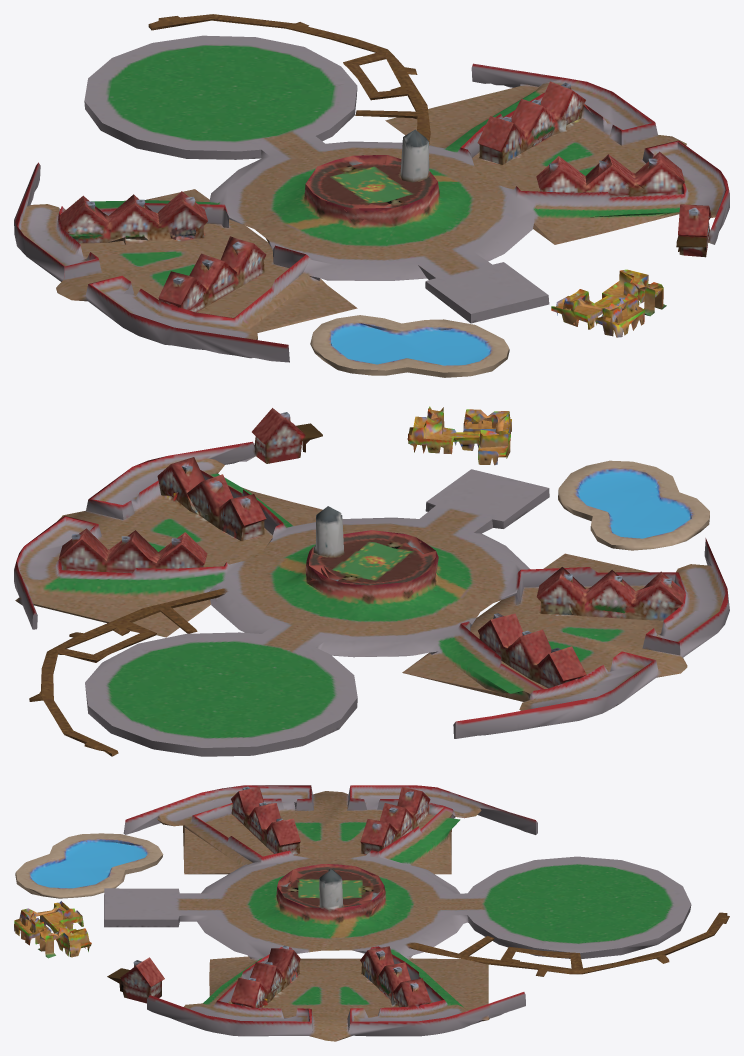
Rendered from clod_town_t04_clod_far001.gltf.
The picture shows the model from 3 angles, top to bottom: view 1: azimuth 30°, elevation 25°; view 2: azimuth 150°, elevation 25°; view 3: azimuth 270°, elevation 25°; orthographic projection. The views are drawn at different scales.
Visible parts, largest first — view 1: clod_town_t04_clod_far001_000_meshShape:remesh_mat; view 2: clod_town_t04_clod_far001_000_meshShape:remesh_mat; view 3: clod_town_t04_clod_far001_000_meshShape:remesh_mat.
Part boxes in pixels (bbox=[...]): clod_town_t04_clod_far001_000_meshShape:remesh_mat: bbox=[14, 14, 729, 377]; clod_town_t04_clod_far001_000_meshShape:remesh_mat: bbox=[14, 406, 729, 756]; clod_town_t04_clod_far001_000_meshShape:remesh_mat: bbox=[14, 785, 729, 1041].
Bounding box in the file's own units: 216 × 27.54 × 262.
1 material, 1 textured.
